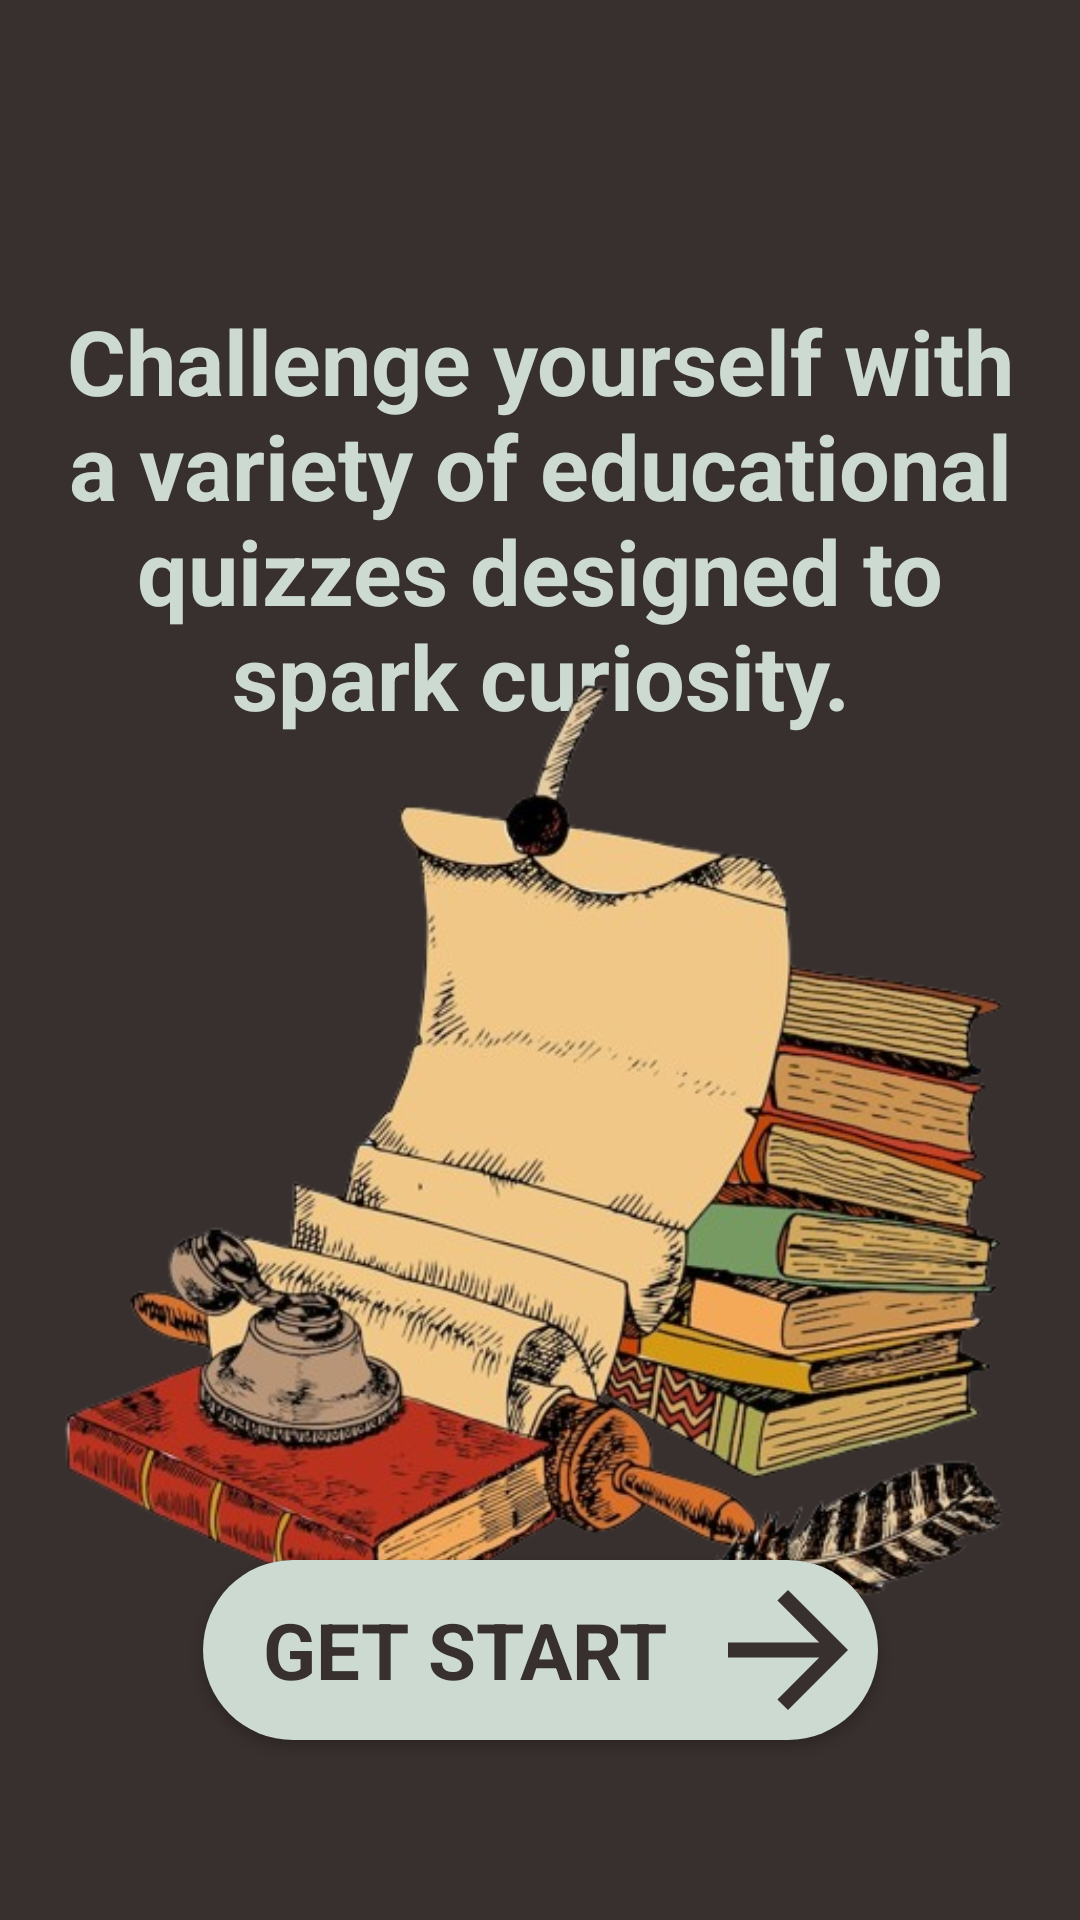

Named icons in this screenshot (1080px×1920px) and their centers, (x,y):
arrow forward: (788,1650)
